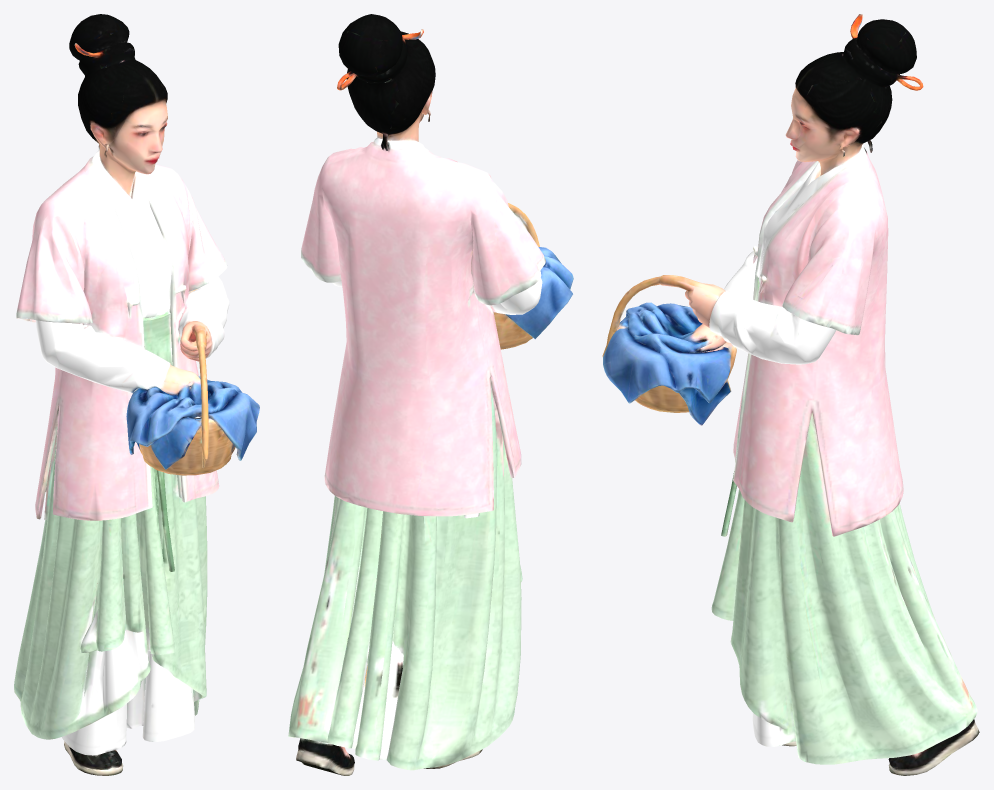
Rendered from p_woman.glb.
The picture shows the model from 3 angles, left to right: view 1: azimuth 30°, elevation 25°; view 2: azimuth 150°, elevation 25°; view 3: azimuth 270°, elevation 25°; orthographic projection. The views are drawn at different scales.
Visible parts, largest first — view 1: p_woman; view 2: p_woman; view 3: p_woman.
Part boxes in pixels (box(x1,y1,x2,y2)): p_woman: box(14, 14, 259, 775); p_woman: box(288, 14, 573, 775); p_woman: box(602, 14, 979, 775).
Bounding box in the file's own units: 0.5178 × 1.65 × 0.7648.
Materials: 1 (1 with a texture image).
